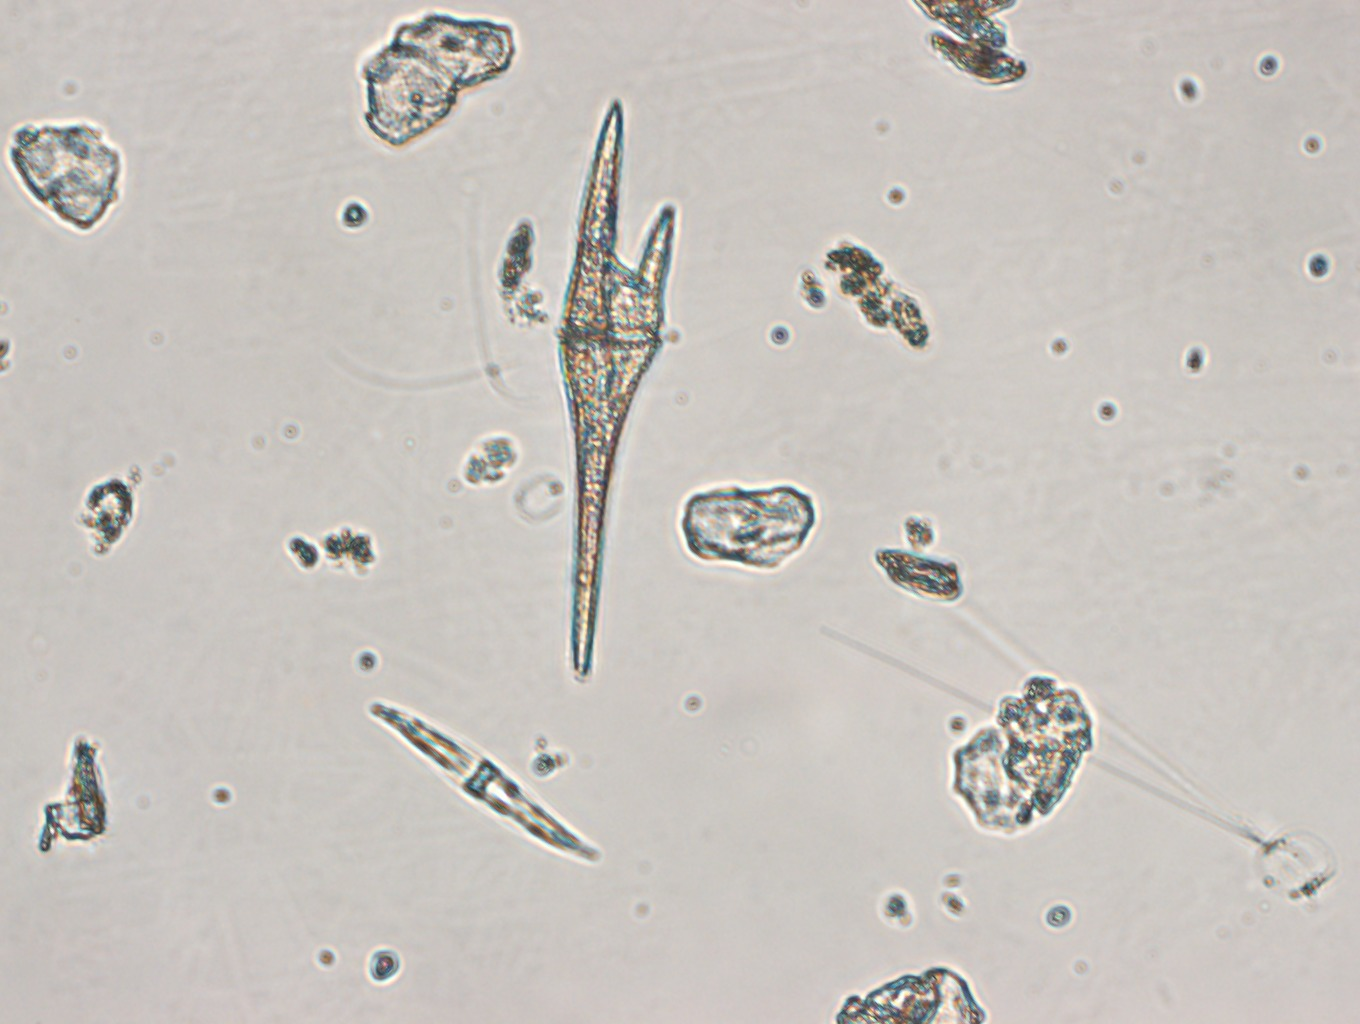ceratium furca: (547, 91, 674, 681)
pleurosigma pelagicum: (366, 703, 605, 869)
